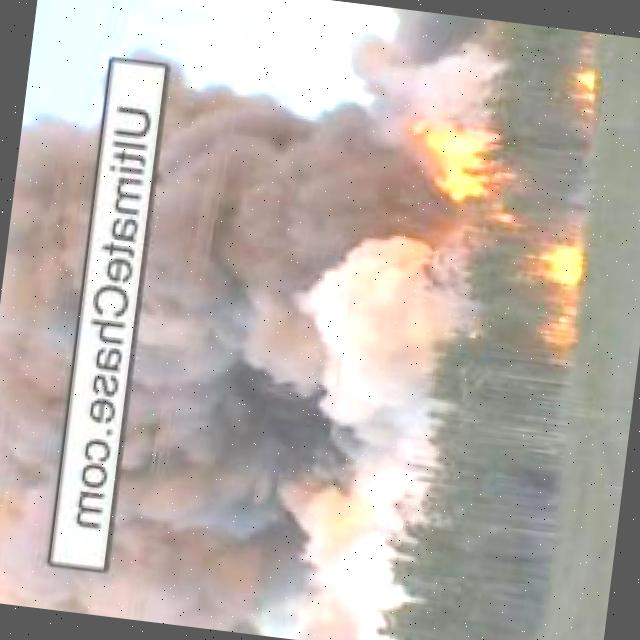fire: (390, 107, 518, 212), (530, 241, 581, 287), (532, 299, 579, 345), (564, 64, 602, 106)
